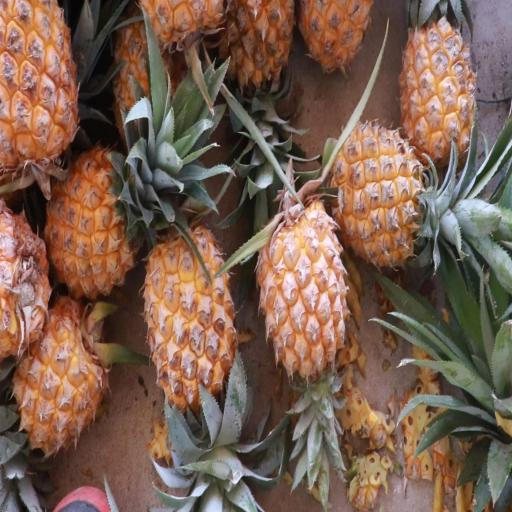Pineapple - v8 v1: (256, 194, 354, 398), (140, 217, 238, 420), (327, 114, 440, 279), (11, 287, 112, 456), (45, 138, 139, 302), (400, 2, 478, 178)
